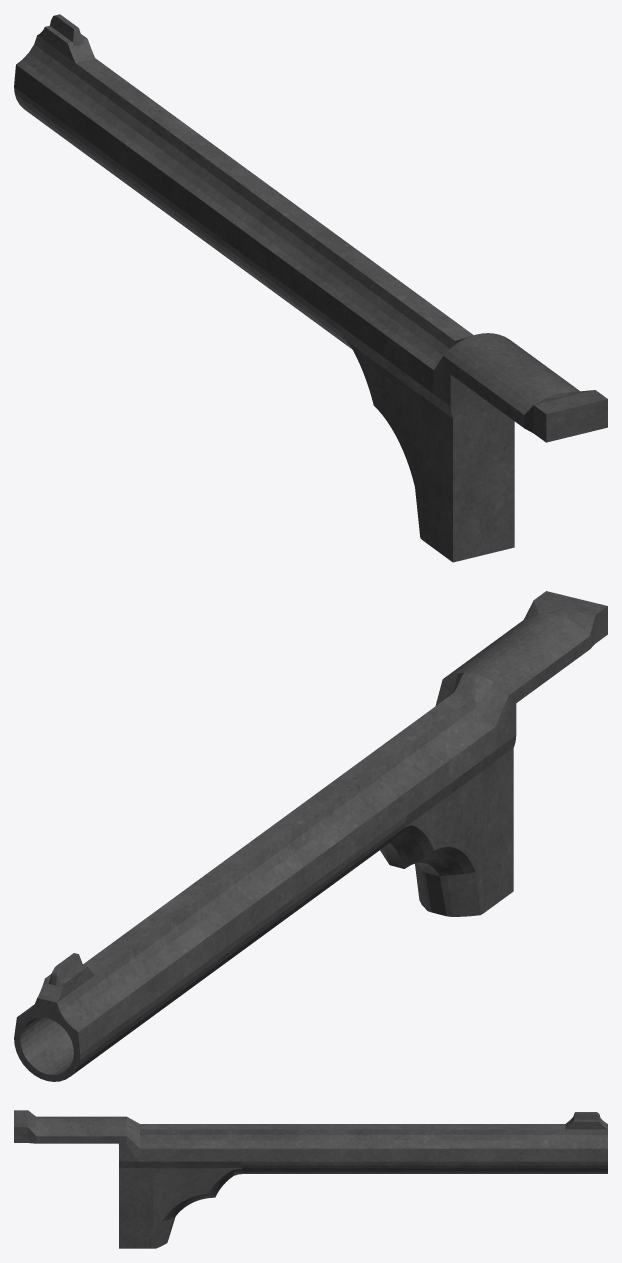
The model's file is GunBarrel.fbx.
The picture shows the model from 3 angles, top to bottom: view 1: azimuth 30°, elevation 25°; view 2: azimuth 150°, elevation 25°; view 3: azimuth 270°, elevation 25°; orthographic projection. The views are drawn at different scales.
Visible parts, largest first — view 1: Gun_Barrel; view 2: Gun_Barrel; view 3: Gun_Barrel.
Boxes of the visible parts, box(x1,y1,x2,y2) form: Gun_Barrel: box(14, 14, 607, 562); Gun_Barrel: box(14, 591, 607, 1081); Gun_Barrel: box(14, 1110, 607, 1248).
Bounding box in the file's own units: 200 × 657 × 2767.
2 materials, 1 textured.
